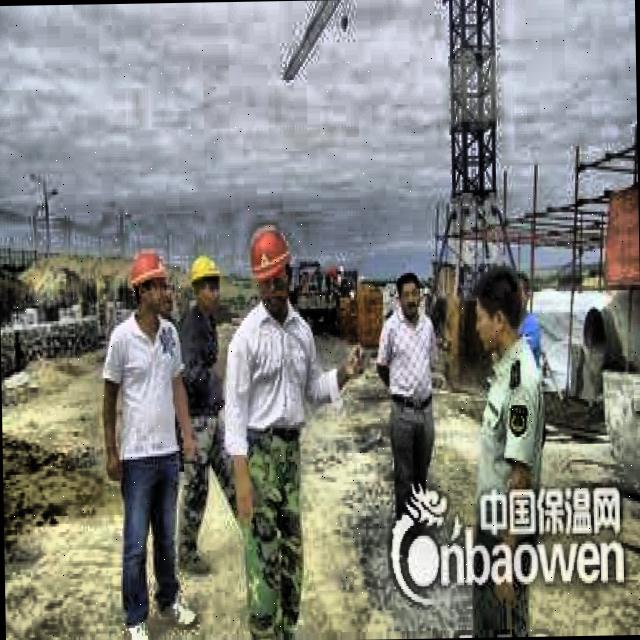helmet: (249, 227, 294, 315), (128, 248, 166, 316), (190, 252, 221, 308)
